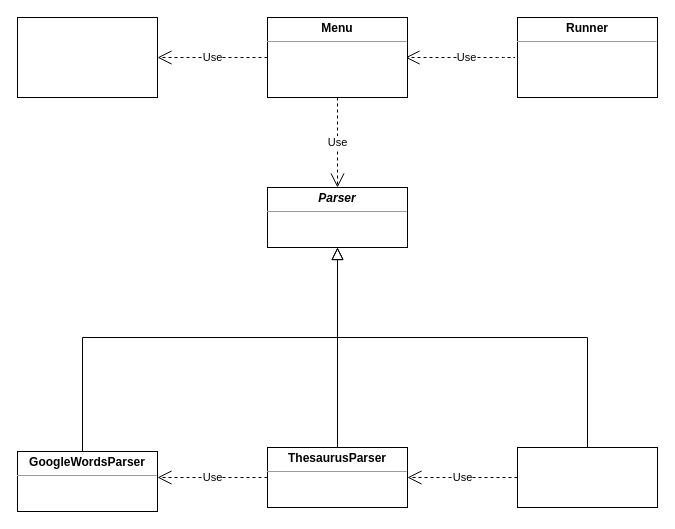
The diagram is 675 pixels wide and 529 high, and some of its shapes have lost their labels. Here are the shapes that lost their labels. From the top down, the box of each, then its label:
(16, 16, 158, 98): <<enumeration>> ConsoleColour
(516, 446, 658, 508): InputTextParser
